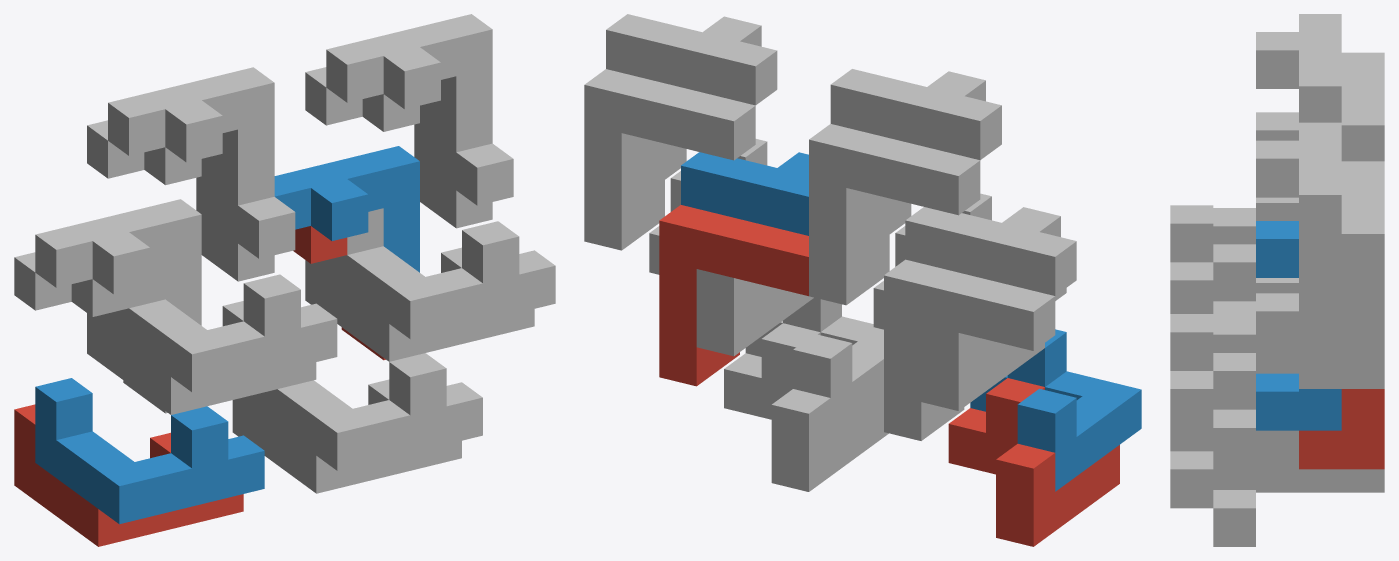
Rendered from tiling.obj.
3 renders of one model, left to right at view 1: azimuth 30°, elevation 25°; view 2: azimuth 150°, elevation 25°; view 3: azimuth 270°, elevation 25°, orthographic. The views are drawn at different scales.
Parts seen in each view (by area): view 1: copy_1_domain_2, copy_2_domain_4, copy_2_domain_8, copy_1_domain_4, copy_1_domain_8, copy_1_domain_6, copy_2_domain_2, copy_2_domain_6, copy_1_domain_1, copy_2_domain_7, copy_2_domain_3, copy_1_domain_3 (+4 smaller); view 2: copy_2_domain_7, copy_2_domain_3, copy_2_domain_1, copy_2_domain_5, copy_1_domain_1, copy_2_domain_8, copy_2_domain_4, copy_1_domain_5, copy_1_domain_2, copy_2_domain_2, copy_1_domain_6, copy_2_domain_6 (+4 smaller); view 3: copy_2_domain_8, copy_2_domain_7, copy_2_domain_4, copy_1_domain_8, copy_1_domain_5, copy_2_domain_6, copy_1_domain_4, copy_2_domain_5, copy_1_domain_7, copy_2_domain_3, copy_1_domain_6, copy_1_domain_3 (+1 smaller).
Boxes of the visible parts, x1=… form: copy_1_domain_2: x1=35, y1=378, x2=264, y2=524; copy_2_domain_4: x1=108, y1=67, x2=295, y2=258; copy_2_domain_8: x1=326, y1=14, x2=513, y2=205; copy_1_domain_4: x1=108, y1=261, x2=337, y2=392; copy_1_domain_8: x1=326, y1=208, x2=555, y2=338; copy_1_domain_6: x1=253, y1=353, x2=482, y2=470; copy_2_domain_2: x1=35, y1=199, x2=201, y2=325; copy_2_domain_6: x1=274, y1=146, x2=419, y2=272; copy_1_domain_1: x1=14, y1=404, x2=243, y2=546; copy_2_domain_7: x1=305, y1=67, x2=492, y2=228; copy_2_domain_3: x1=87, y1=120, x2=274, y2=281; copy_1_domain_3: x1=87, y1=301, x2=316, y2=414; copy_2_domain_7: x1=584, y1=69, x2=755, y2=250; copy_2_domain_3: x1=809, y1=124, x2=980, y2=305; copy_2_domain_1: x1=884, y1=259, x2=1055, y2=440; copy_2_domain_5: x1=659, y1=205, x2=808, y2=386; copy_1_domain_1: x1=948, y1=378, x2=1119, y2=546; copy_2_domain_8: x1=606, y1=14, x2=777, y2=195; copy_2_domain_4: x1=830, y1=69, x2=1001, y2=249; copy_1_domain_5: x1=724, y1=323, x2=888, y2=491; copy_1_domain_2: x1=970, y1=329, x2=1141, y2=491; copy_2_domain_2: x1=905, y1=207, x2=1076, y2=295; copy_1_domain_6: x1=745, y1=297, x2=883, y2=436; copy_2_domain_6: x1=681, y1=152, x2=808, y2=235; copy_2_domain_8: x1=1256, y1=122, x2=1341, y2=350; copy_2_domain_7: x1=1299, y1=161, x2=1384, y2=388; copy_2_domain_4: x1=1256, y1=14, x2=1341, y2=220; copy_1_domain_8: x1=1170, y1=314, x2=1298, y2=427; copy_1_domain_5: x1=1213, y1=454, x2=1384, y2=546; copy_2_domain_6: x1=1256, y1=221, x2=1341, y2=430; copy_1_domain_4: x1=1170, y1=205, x2=1255, y2=313; copy_2_domain_5: x1=1299, y1=389, x2=1384, y2=469; copy_1_domain_7: x1=1213, y1=353, x2=1255, y2=466; copy_2_domain_3: x1=1341, y1=52, x2=1384, y2=161; copy_1_domain_6: x1=1170, y1=428, x2=1298, y2=508; copy_1_domain_3: x1=1213, y1=244, x2=1255, y2=316.
Bounding box in the file's own units: 12 × 10 × 5.
